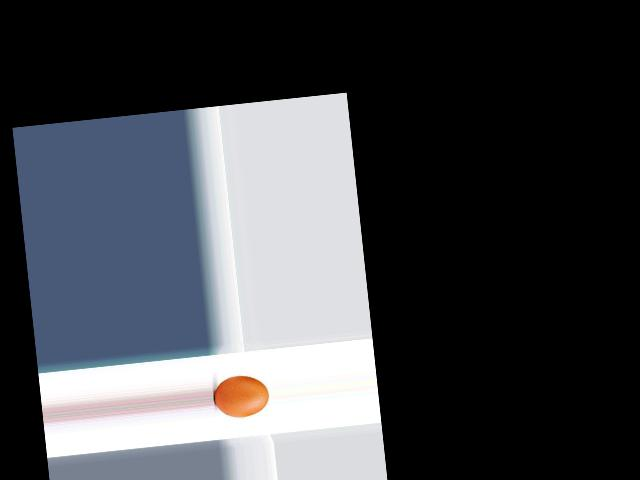egg: (212, 372, 270, 419)
